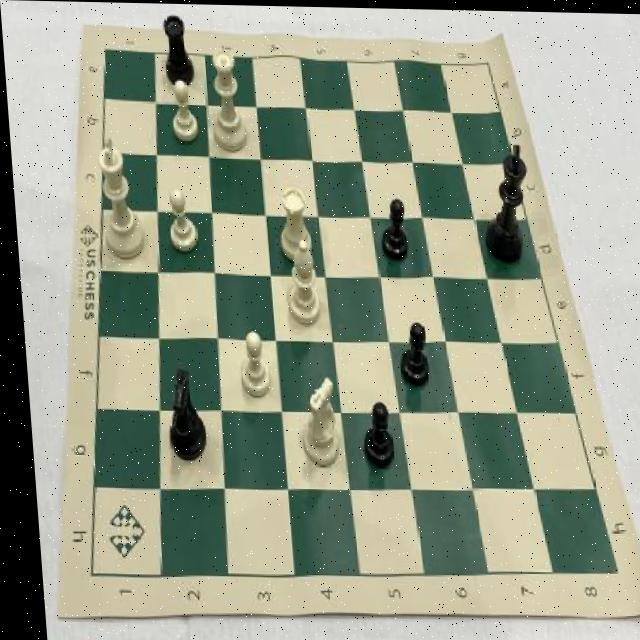black-bishop: (472, 134, 537, 267)
black-king: (157, 366, 207, 468)
black-knight: (389, 312, 429, 393), (352, 393, 393, 471), (373, 194, 408, 267)
black-queen: (156, 7, 198, 90)
black-rook: (280, 237, 323, 327)
white-bishop: (89, 132, 146, 265)
white-king: (289, 371, 338, 471)
white-knight: (226, 323, 268, 403), (158, 181, 199, 257), (163, 75, 204, 146)
white-pawn: (205, 42, 252, 157)
white-queen: (270, 181, 313, 264)
